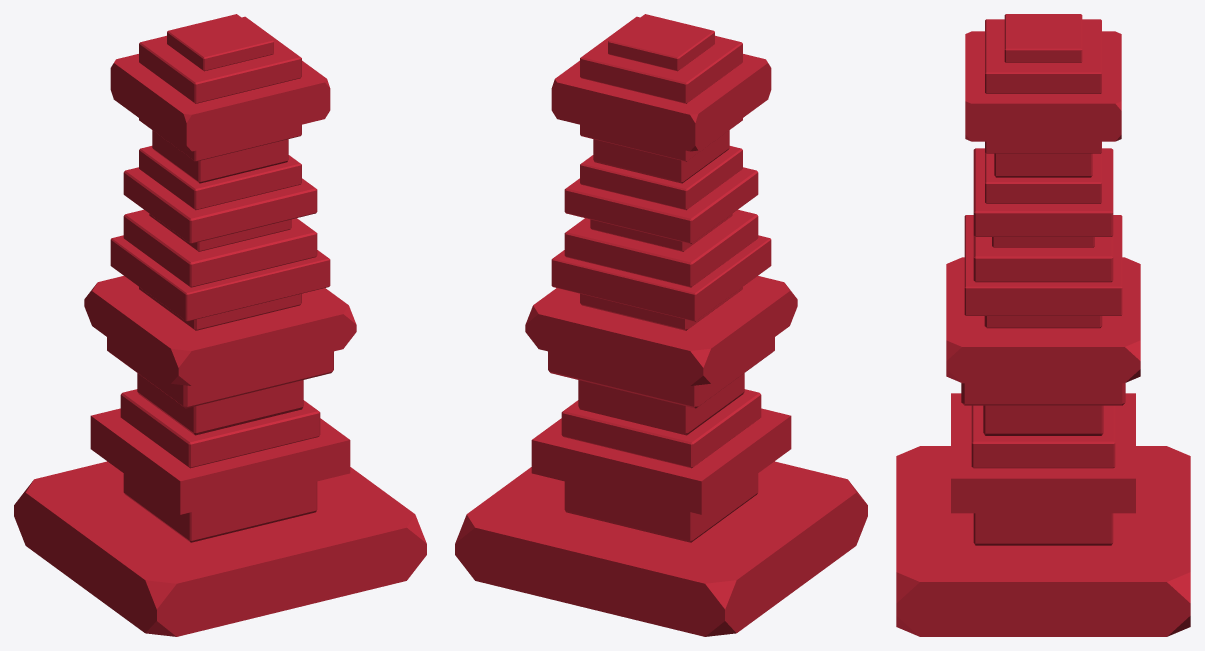
The model's file is KINETIKA_EMPILEMENT_DESTRUCTIBLE_1.FBX.
The picture shows the model from 3 angles, left to right: view 1: azimuth 30°, elevation 25°; view 2: azimuth 150°, elevation 25°; view 3: azimuth 270°, elevation 25°; orthographic projection. The views are drawn at different scales.
Parts seen in each view (by area): view 1: Empilement1, Box007, Box003, Box014, Box009, Box010, Box004, Box117, Box017, Box002, Box013, Box005 (+6 smaller); view 2: Empilement1, Box007, Box003, Box014, Box009, Box010, Box004, Box117, Box017, Box002, Box013, Box005 (+6 smaller); view 3: Empilement1, Box007, Box003, Box014, Box009, Box117, Box004, Box010, Box017, Box002, Box018, Box006 (+6 smaller).
Boxes of the visible parts, bbox=[...] form: Empilement1: bbox=[14, 461, 426, 636]; Box007: bbox=[84, 276, 356, 385]; Box003: bbox=[90, 408, 350, 514]; Box014: bbox=[110, 54, 330, 151]; Box009: bbox=[110, 235, 330, 321]; Box010: bbox=[123, 209, 317, 287]; Box004: bbox=[120, 389, 320, 468]; Box117: bbox=[123, 167, 317, 243]; Box017: bbox=[139, 16, 301, 103]; Box002: bbox=[123, 473, 317, 542]; Box013: bbox=[139, 146, 301, 210]; Box005: bbox=[137, 373, 303, 435]; Empilement1: bbox=[455, 461, 867, 636]; Box007: bbox=[525, 276, 797, 385]; Box003: bbox=[531, 408, 791, 514]; Box014: bbox=[551, 54, 771, 151]; Box009: bbox=[551, 235, 771, 321]; Box010: bbox=[564, 209, 758, 287]; Box004: bbox=[561, 389, 761, 468]; Box117: bbox=[564, 167, 758, 243]; Box017: bbox=[580, 16, 742, 103]; Box002: bbox=[564, 473, 758, 542]; Box013: bbox=[580, 146, 742, 210]; Box005: bbox=[578, 373, 744, 435]; Empilement1: bbox=[896, 446, 1190, 636]; Box007: bbox=[946, 257, 1140, 383]; Box003: bbox=[951, 393, 1135, 513]; Box014: bbox=[965, 31, 1121, 141]; Box009: bbox=[964, 215, 1122, 315]; Box117: bbox=[973, 148, 1113, 236]; Box004: bbox=[971, 405, 1115, 468]; Box010: bbox=[973, 236, 1113, 282]; Box017: bbox=[985, 19, 1101, 93]; Box002: bbox=[973, 513, 1113, 545]; Box018: bbox=[1004, 14, 1082, 62]; Box006: bbox=[961, 383, 1125, 405].
Size of the model in its own units: 13.48 by 24.85 by 12.34.
